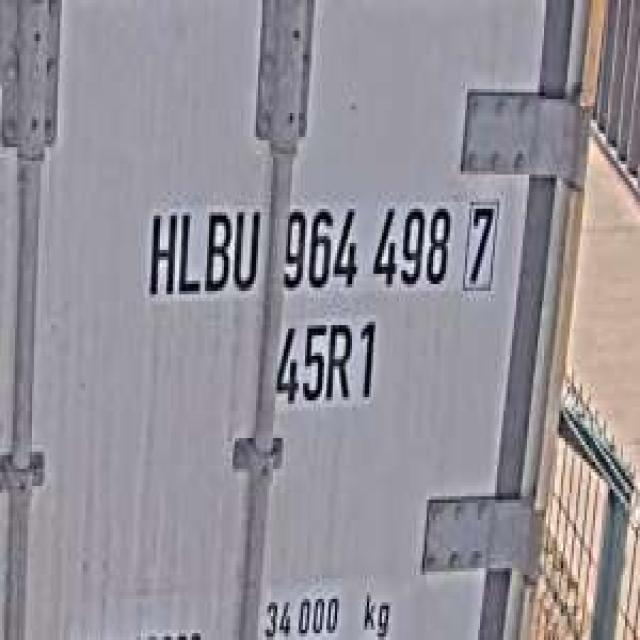dv: (458, 188, 504, 298)
owner: (141, 192, 264, 304)
serial: (278, 188, 454, 298)
size: (269, 311, 382, 411)
